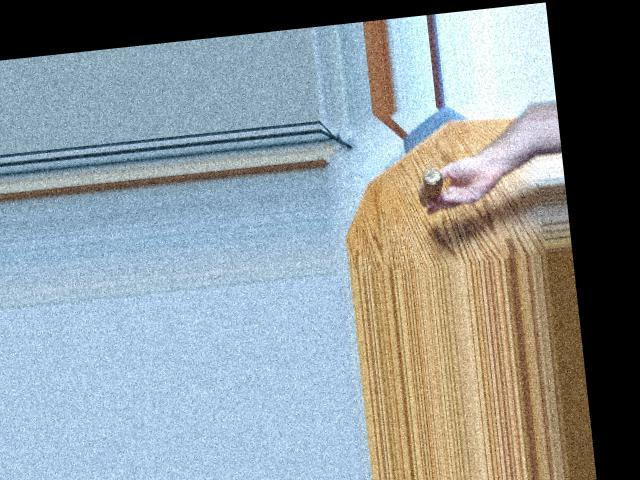sweet_potato: (414, 161, 452, 209)
